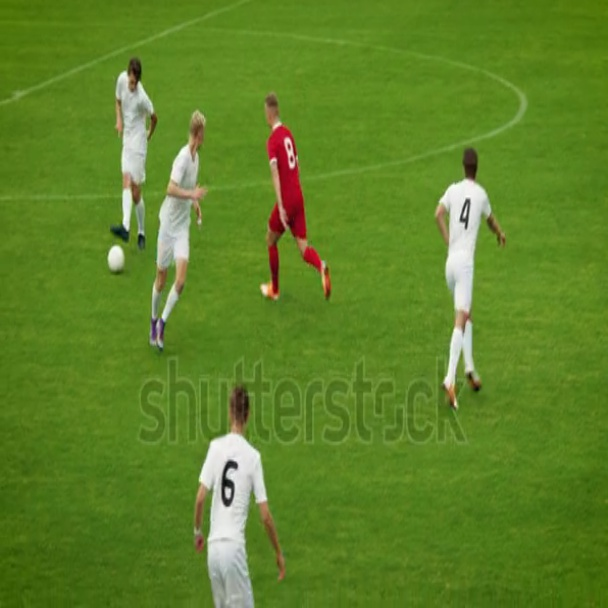ball: (108, 244, 126, 274)
